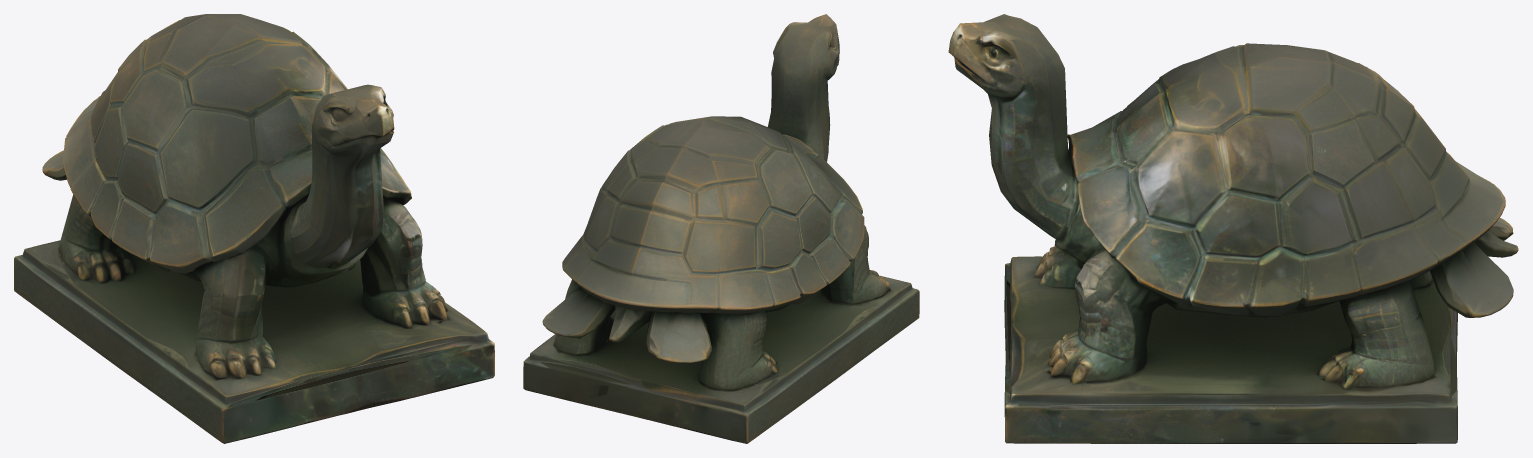
File: turtle.glb
3 views of the same model, side by side, from view 1: azimuth 30°, elevation 25°; view 2: azimuth 150°, elevation 25°; view 3: azimuth 270°, elevation 25° (orthographic). The views are drawn at different scales.
Visible parts, largest first — view 1: model; view 2: model; view 3: model.
Part boxes in pixels (left/top/right/bottom): model: left=14, top=14, right=494, bottom=443; model: left=523, top=14, right=919, bottom=443; model: left=948, top=14, right=1518, bottom=443.
Bounding box in the file's own units: 1.14 × 1.28 × 1.89.
Materials: 1 (1 with a texture image).
